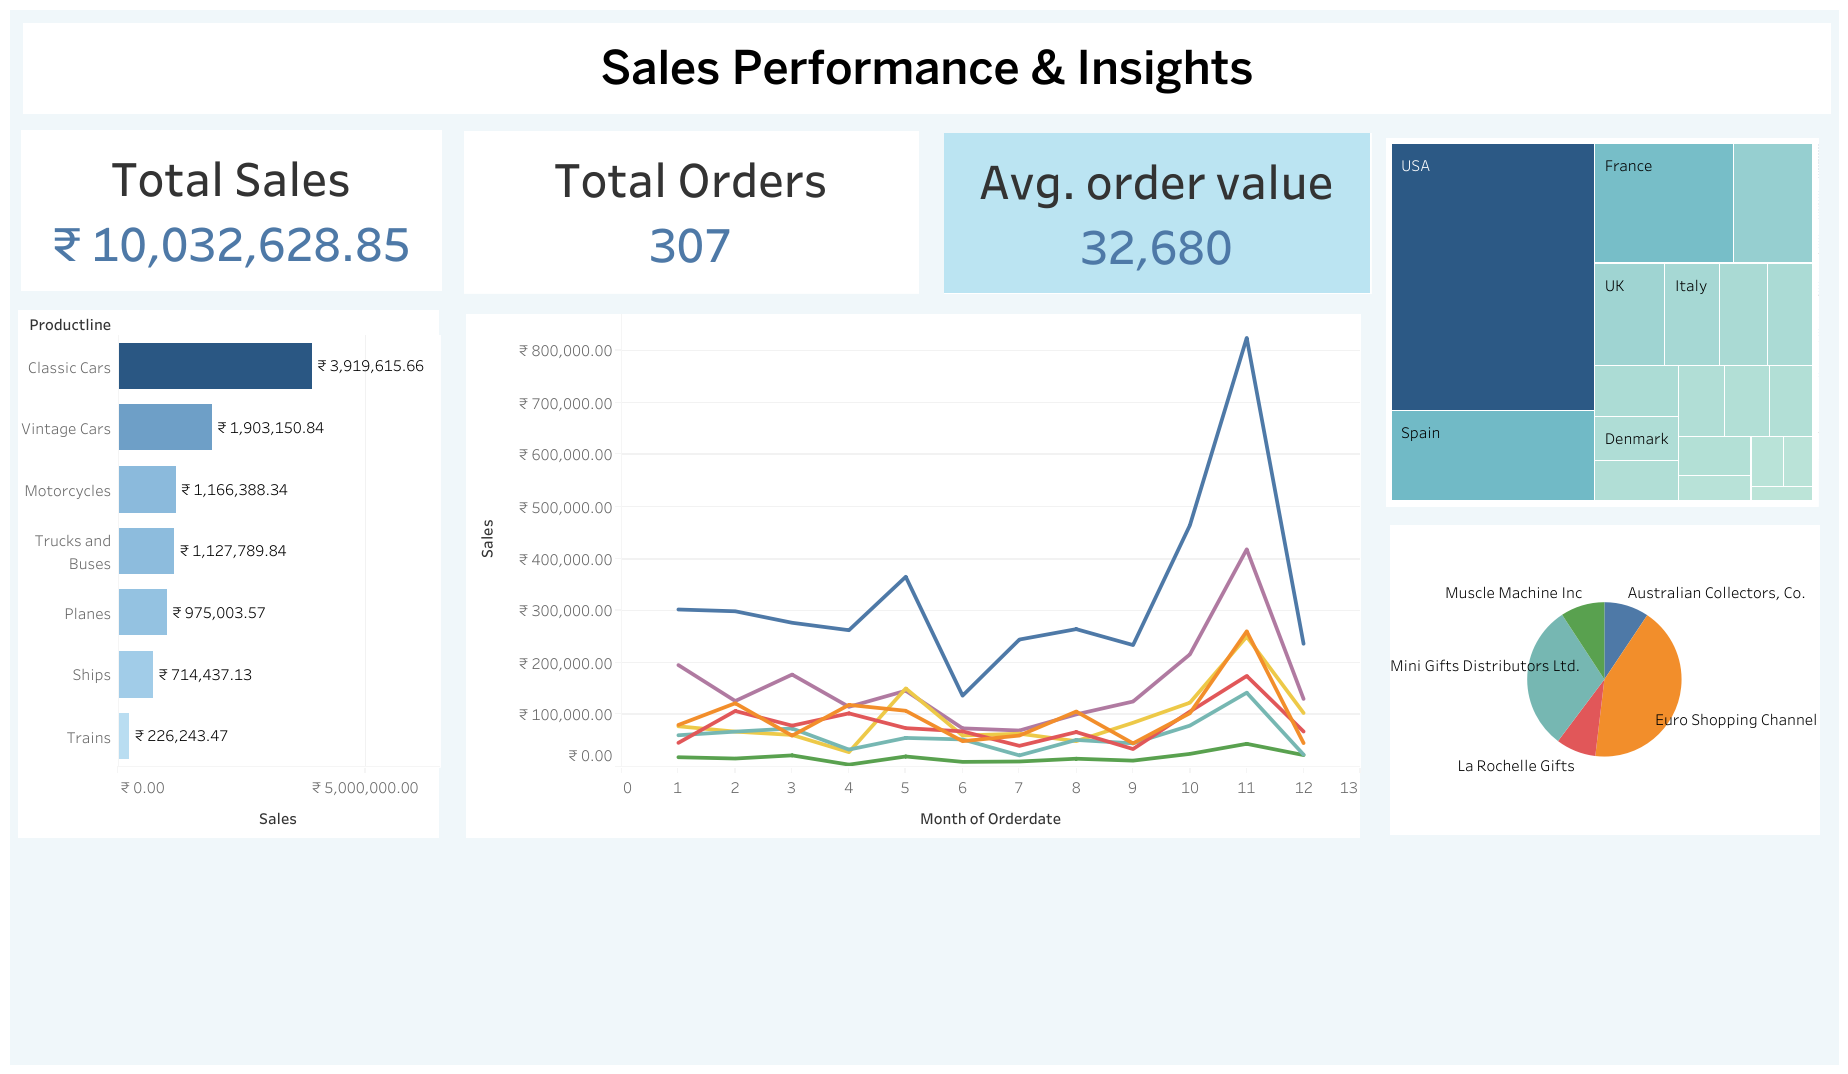

The page's visual inventory and layout, read from the dashboard file:
{"tool":"tableau","page":{"name":"Dashboard 1","canvas":[1000,1000],"units":"permille","ordinal":0},"visuals":[{"type":"text","box":[6.5,11.6,989.3,103.5]},{"type":"worksheet","title":"Sheet 4","mark":"Automatic","box":[11.3,120.9,227.6,148.8]},{"type":"worksheet","title":"Sheet 8","mark":"Text","box":[250.7,122.1,245.4,150]},{"type":"worksheet","title":"Sheet 9","mark":"Automatic","box":[510.4,123.3,230.6,148.8]},{"type":"worksheet","title":"Sheet 3","mark":"Automatic","box":[749.9,127.9,233.6,341.9]},{"type":"worksheet","title":"Sheet 1","mark":"Bar","rows":["PRODUCTLINE"],"cols":["SALES"],"box":[9.5,288.4,227.6,490.7]},{"type":"worksheet","title":"Sheet 2","mark":"Line","rows":["SALES"],"cols":["ORDERDATE"],"box":[252.5,291.9,483.1,487.2]},{"type":"worksheet","title":"Sheet 7","mark":"Pie","box":[751.6,488.4,232.4,287.2]}]}

Visuals, with their boxes on the dashboard's canvas, which has no fixed pixel size, in thousandths of its width and height (x1, y1, x2, y2). These are canvas units, not pixel positions in the 1848x1074 screenshot, which may show the page scaled, cropped or inside an application window:
text: select_region(6, 12, 996, 115)
"Sheet 4" worksheet: select_region(11, 121, 239, 270)
"Sheet 8" worksheet (Text marks): select_region(251, 122, 496, 272)
"Sheet 9" worksheet: select_region(510, 123, 741, 272)
"Sheet 3" worksheet: select_region(750, 128, 984, 470)
"Sheet 1" worksheet (Bar marks): select_region(10, 288, 237, 779)
"Sheet 2" worksheet (Line marks): select_region(252, 292, 736, 779)
"Sheet 7" worksheet (Pie marks): select_region(752, 488, 984, 776)
